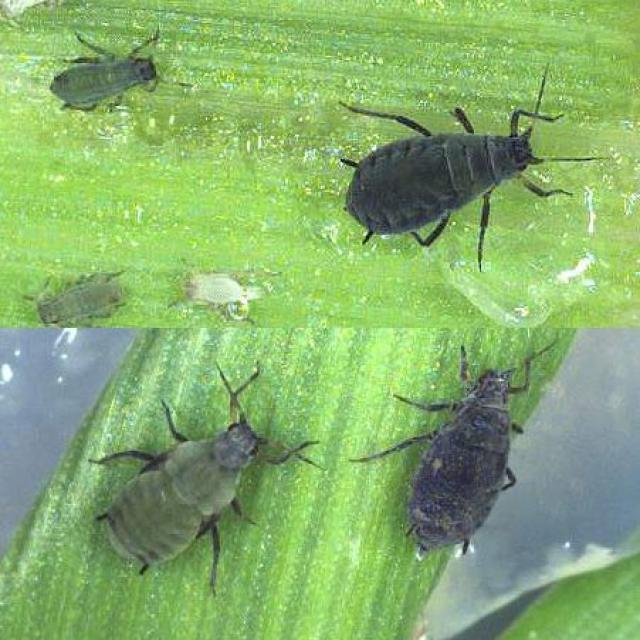Aphids: (254, 54, 602, 288), (67, 366, 335, 582), (398, 339, 544, 564), (27, 26, 179, 125), (26, 264, 120, 339)
